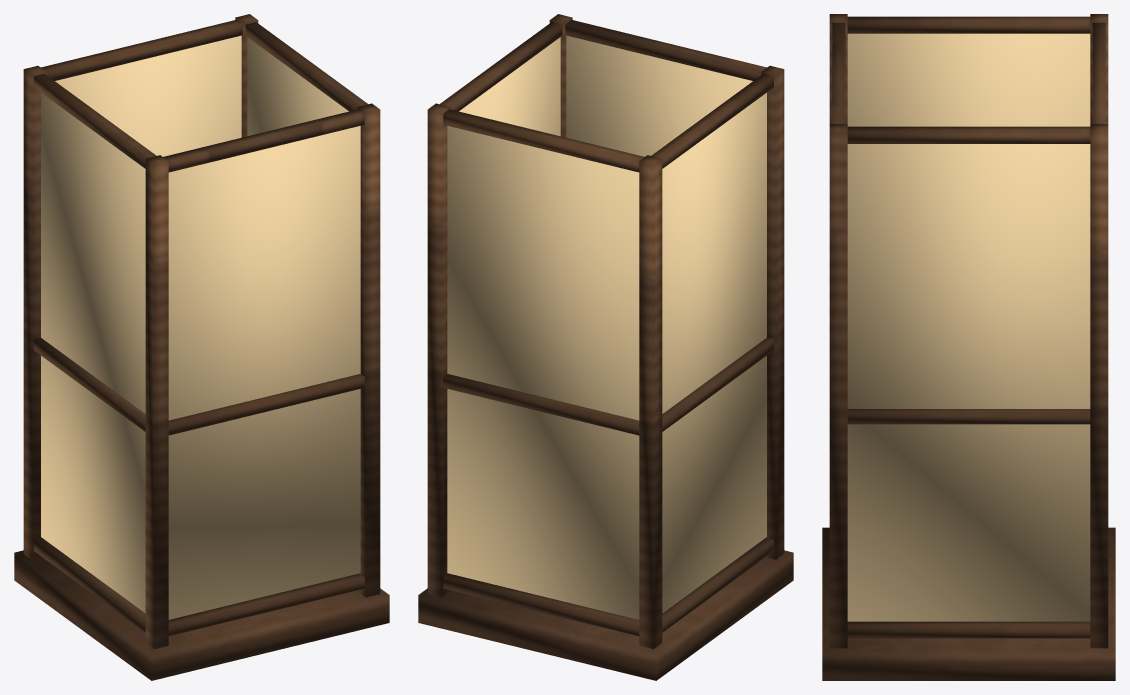
The model's file is andon.glb.
3 views of the same model, side by side, from view 1: azimuth 30°, elevation 25°; view 2: azimuth 150°, elevation 25°; view 3: azimuth 270°, elevation 25° (orthographic). The views are drawn at different scales.
Visible parts, largest first — view 1: andon_paper, andon_wood_dark; view 2: andon_paper, andon_wood_dark; view 3: andon_paper, andon_wood_dark.
Boxes of the visible parts, bbox=[...] form: andon_paper: bbox=[41, 35, 360, 619]; andon_wood_dark: bbox=[14, 14, 389, 680]; andon_paper: bbox=[447, 35, 766, 619]; andon_wood_dark: bbox=[418, 14, 793, 680]; andon_paper: bbox=[847, 33, 1090, 621]; andon_wood_dark: bbox=[822, 14, 1115, 680].
Bounding box in the file's own units: 0.72 × 1.48 × 0.72.
Materials: 2 (1 with a texture image).
